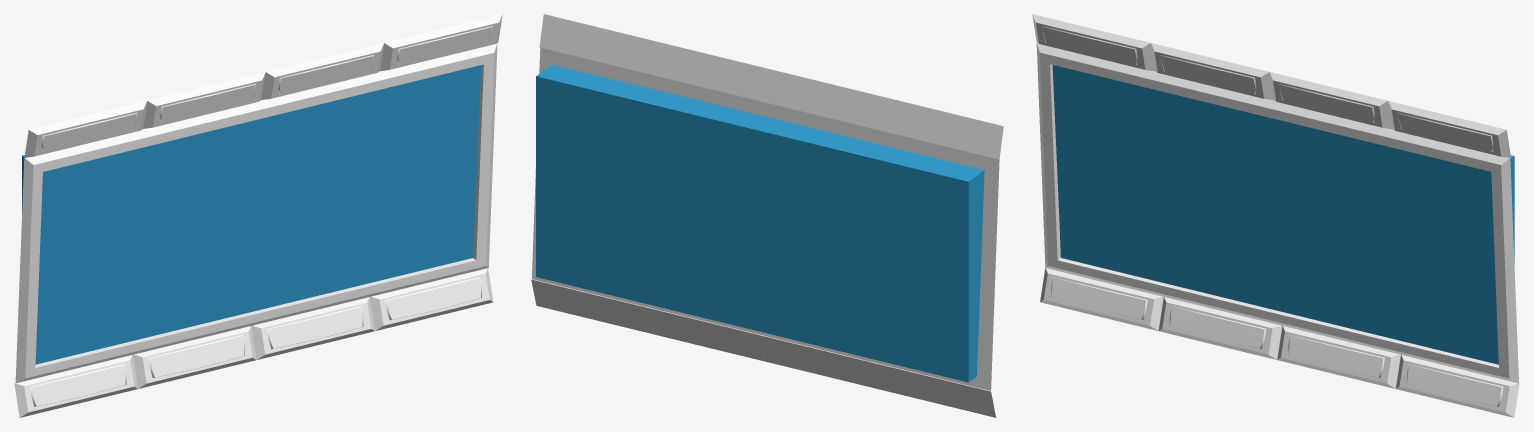
The model's file is large-window.FBX.
The picture shows the model from 3 angles, left to right: view 1: azimuth 30°, elevation 25°; view 2: azimuth 150°, elevation 25°; view 3: azimuth 330°, elevation 25°; orthographic projection. The views are drawn at different scales.
Visible parts, largest first — view 1: Box167, Box128, Box127, Box131, Box130, Box126, Cylinder065, Cylinder063, Cylinder067, Cylinder059, Box124, Box137 (+6 smaller); view 2: Box167, Box128, Box132, Box124, Box125, Box137, Box131, Box126, Box130, Box127; view 3: Box167, Box128, Box127, Box130, Box126, Box131, Cylinder067, Cylinder059, Cylinder063, Cylinder065, Box132, Box125 (+6 smaller).
Part boxes in pixels (x1,y1,x2,y2): Box167: [22, 65, 481, 364]; Box128: [15, 43, 497, 383]; Box127: [251, 297, 374, 359]; Box131: [14, 355, 137, 417]; Box130: [133, 326, 256, 388]; Box126: [370, 268, 493, 330]; Cylinder065: [30, 364, 126, 406]; Cylinder063: [267, 306, 363, 349]; Cylinder067: [148, 335, 244, 377]; Cylinder059: [385, 277, 481, 320]; Box124: [380, 14, 502, 70]; Box137: [143, 72, 265, 128]; Box167: [536, 64, 984, 382]; Box128: [531, 47, 999, 390]; Box132: [884, 98, 1003, 159]; Box124: [539, 14, 658, 75]; Box125: [654, 42, 773, 103]; Box137: [769, 70, 888, 131]; Box131: [876, 363, 996, 417]; Box126: [531, 279, 651, 333]; Box130: [761, 335, 881, 389]; Box127: [646, 307, 766, 361]; Box167: [1052, 65, 1514, 364]; Box128: [1036, 42, 1518, 383]; Box127: [1277, 326, 1400, 388]; Box130: [1158, 297, 1282, 359]; Box126: [1395, 355, 1519, 417]; Box131: [1040, 268, 1163, 330]; Cylinder067: [1169, 306, 1265, 348]; Cylinder059: [1406, 363, 1503, 406]; Cylinder063: [1288, 335, 1384, 377]; Cylinder065: [1051, 277, 1147, 320]; Box132: [1032, 14, 1155, 71]; Box125: [1269, 72, 1392, 128].
Size of the model in its own units: 641 by 380 by 56.47.
